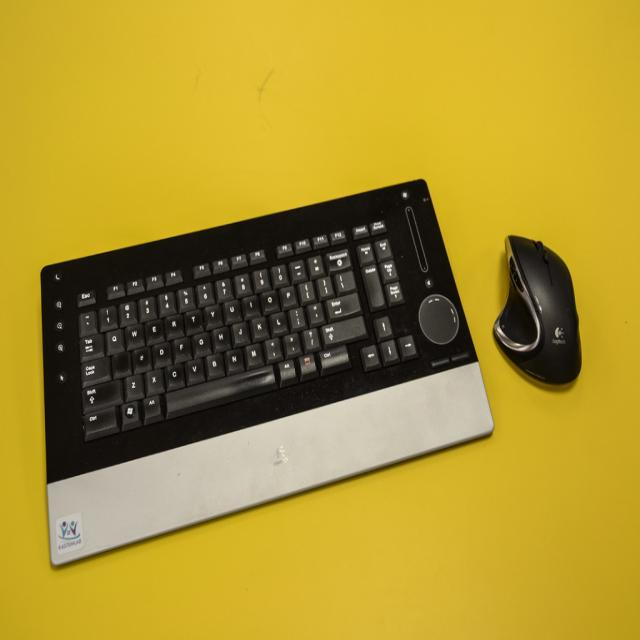Computer-mouse: (492, 238, 581, 383)
